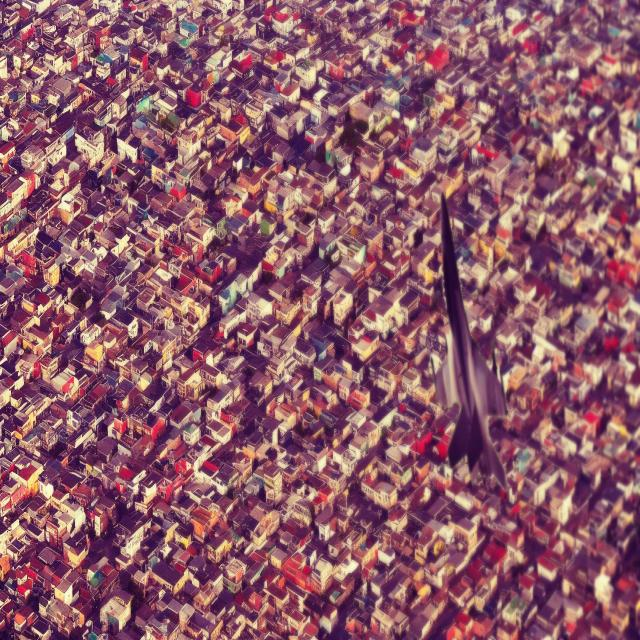airplane: (430, 191, 509, 494)
